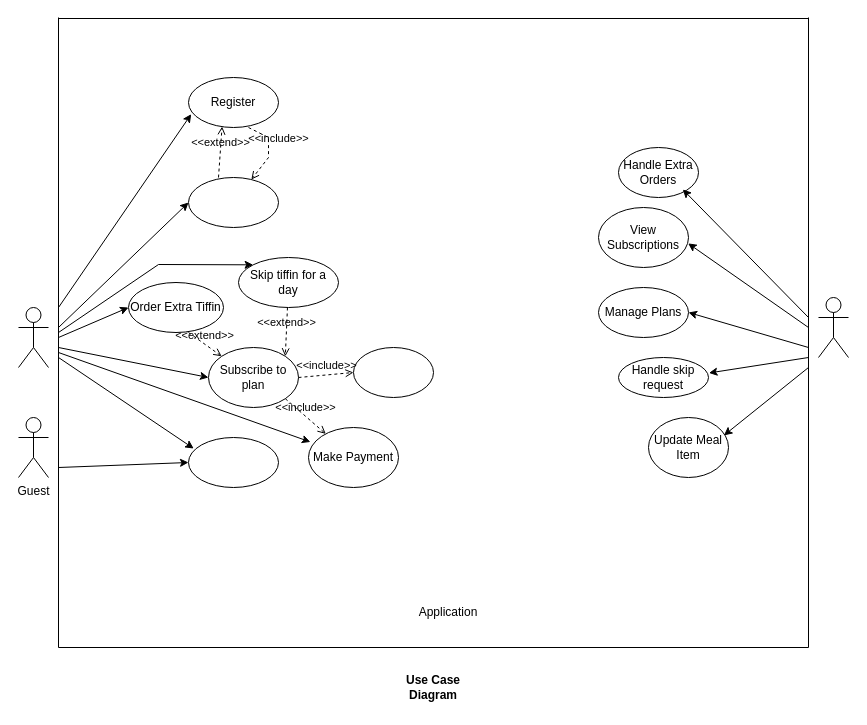
Image size: 867x725. Some labels were removed from this diagram. Here are the shapes that lost their labels. From the top down, the centre of each, then its label:
At point 233,202: "Log in".
At point 33,337: "User".
At point 833,327: "Admin".
At point 393,372: "Cancel Plan".
At point 233,462: "View Meal Plans".
